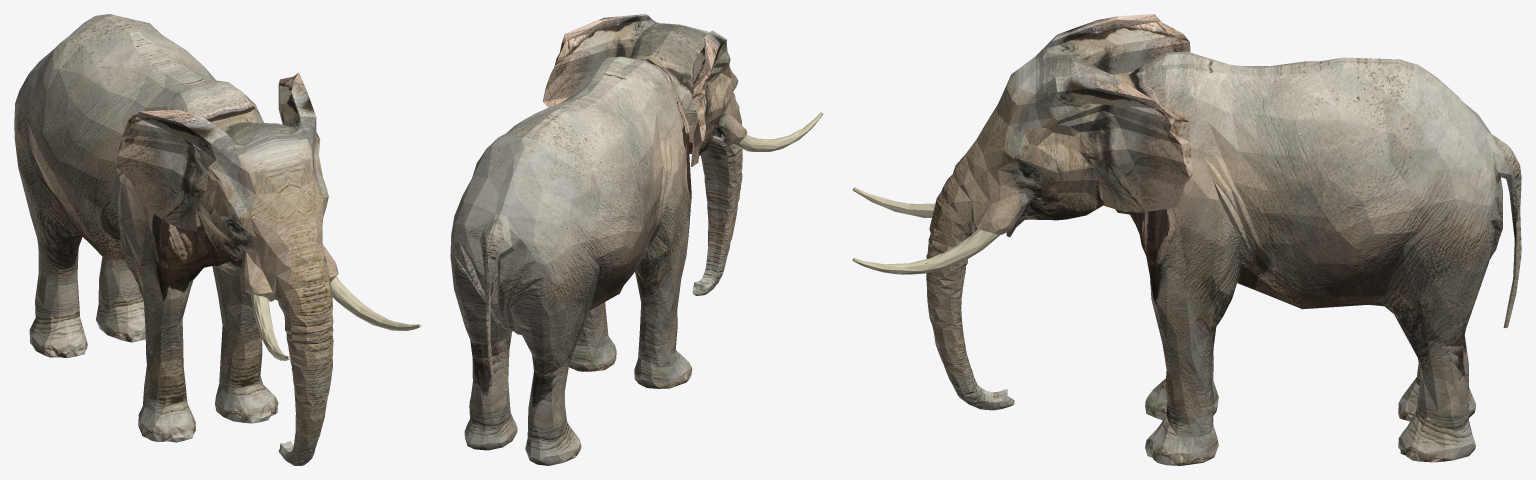
The model's file is AnimalElephant.fbx.
3 views of the same model, side by side, from view 1: azimuth 30°, elevation 25°; view 2: azimuth 150°, elevation 25°; view 3: azimuth 270°, elevation 25° (orthographic). The views are drawn at different scales.
Visible parts, largest first — view 1: Elephant.002; view 2: Elephant.002; view 3: Elephant.002.
Boxes of the visible parts, x1,y1,x2,y2 form: Elephant.002: (14,14,421,465); Elephant.002: (450,14,823,465); Elephant.002: (852,14,1521,465).
Size of the model in its own units: 951 by 1794 by 2831.
1 material, 1 textured.
